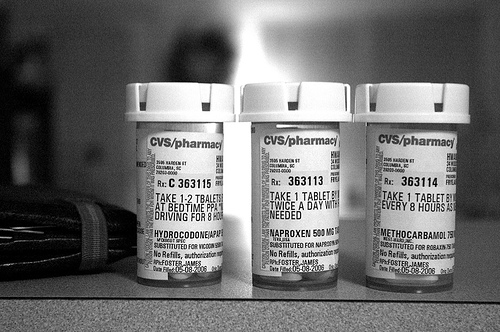pill bottle: (236, 77, 354, 297), (354, 77, 472, 297), (119, 76, 236, 291)
